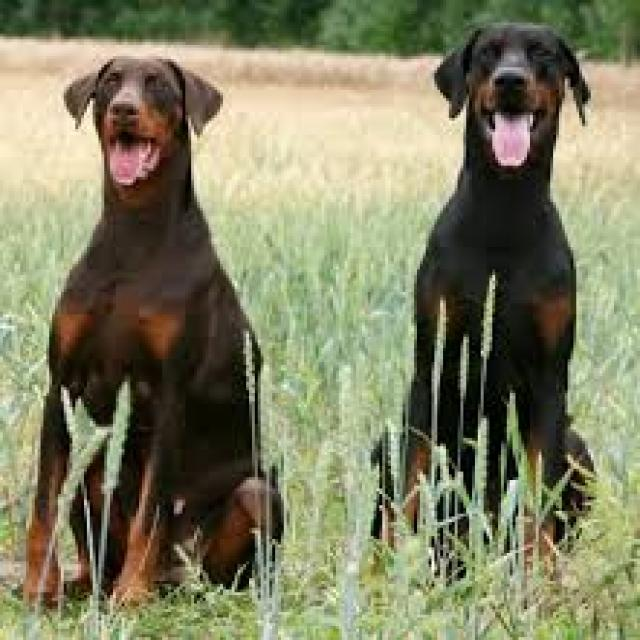Dog: (0, 50, 293, 618), (373, 17, 604, 577)
